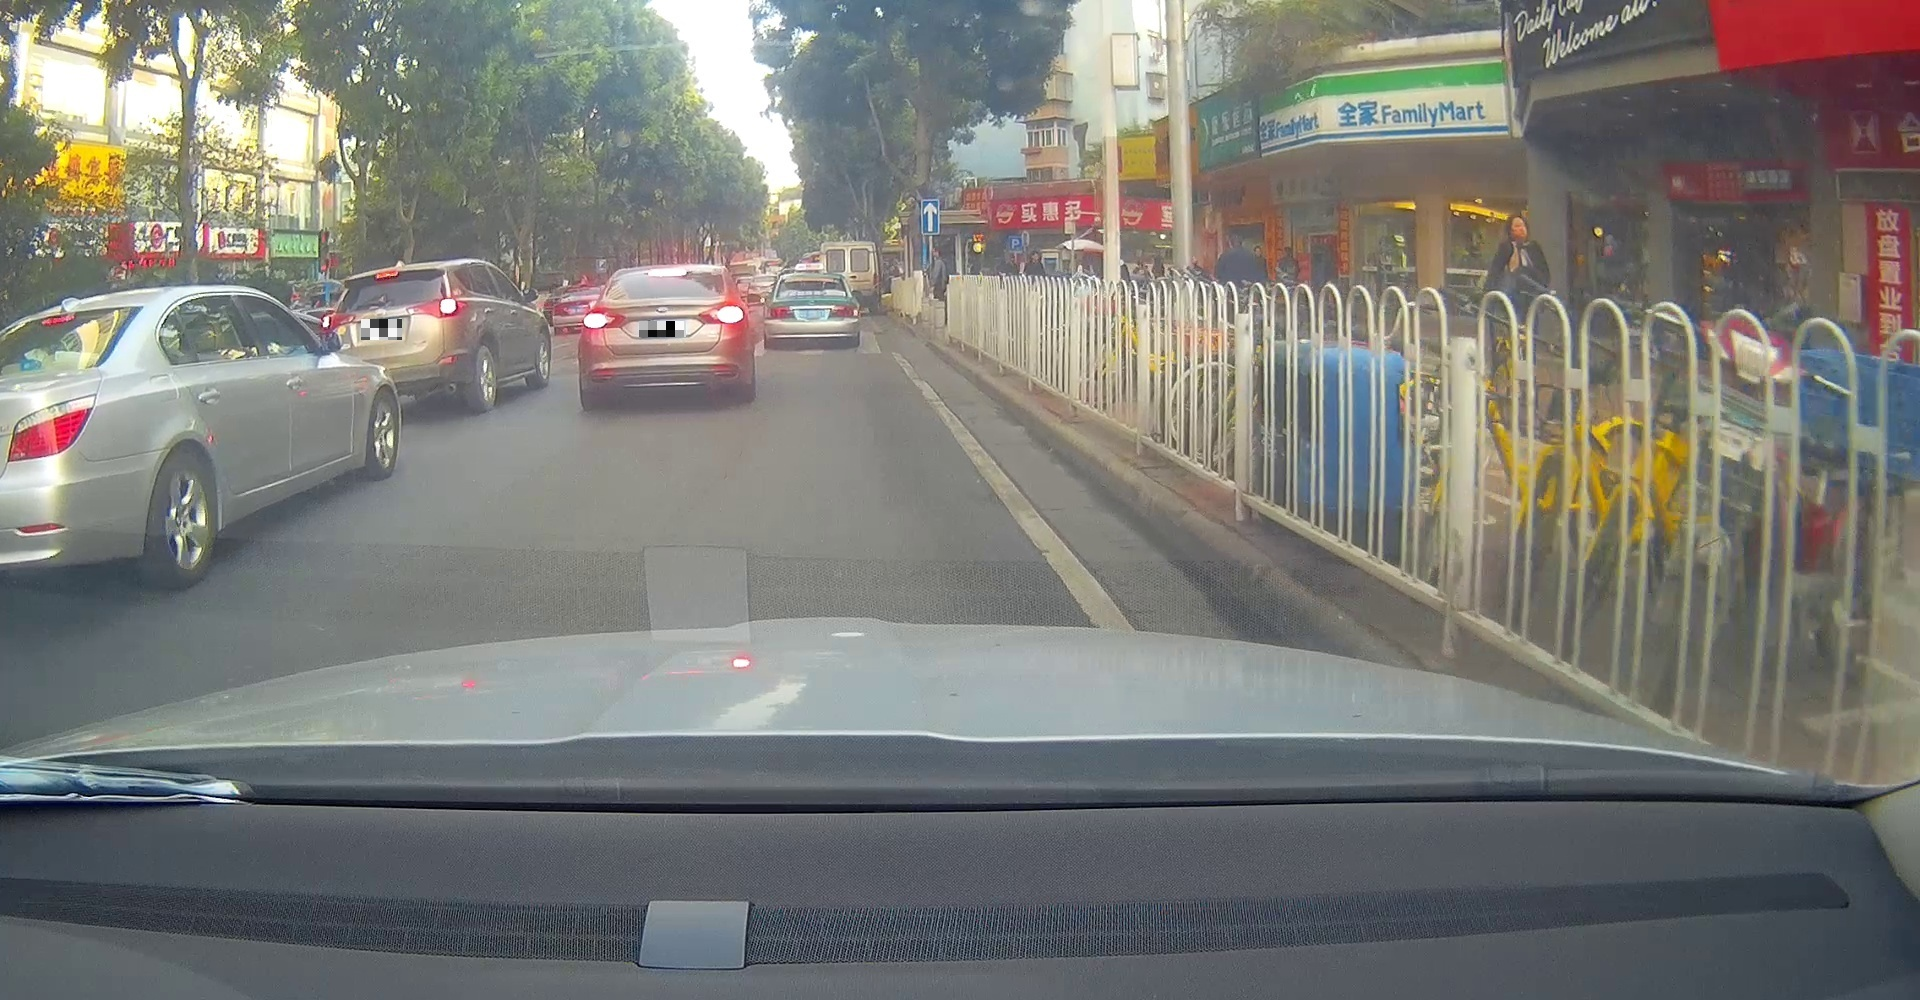L_light: (582, 307, 626, 329), (323, 313, 356, 332), (766, 306, 791, 319)
R_light: (406, 298, 467, 319), (697, 305, 745, 324), (832, 305, 858, 317)
T_light: (648, 268, 687, 277), (375, 270, 399, 279), (805, 277, 818, 280)
day-brake: (577, 264, 753, 412), (323, 261, 469, 415)
day-no: (763, 273, 860, 349)
plate_1: (361, 319, 403, 340)
plate_2: (639, 321, 686, 338)
